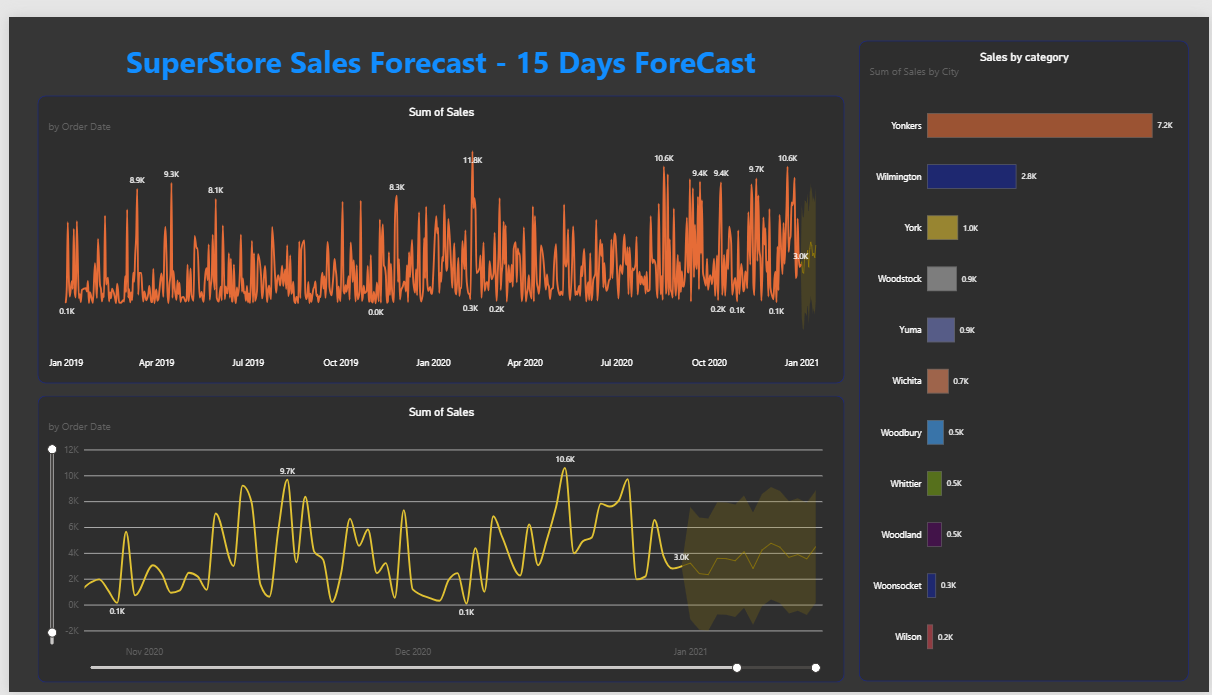

The dashboard page shown, as its layout file describes it:
{"tool":"powerbi","page":{"name":"Page 2","canvas":[1920,1080],"ordinal":1},"visuals":[{"type":"lineChart","fields":{"Category":["SuperStore_Sales_Dataset.Order Date"],"Y":["Sum(SuperStore_Sales_Dataset.Sales)"]},"box":[45,125,1290,460],"z":0},{"type":"lineChart","fields":{"Category":["SuperStore_Sales_Dataset.Order Date"],"Y":["Sum(SuperStore_Sales_Dataset.Sales)"]},"box":[45,605,1290,458],"z":1000},{"type":"clusteredBarChart","title":"Sales by category","fields":{"Category":["SuperStore_Sales_Dataset.City"],"Y":["Sum(SuperStore_Sales_Dataset.Sales)"]},"box":[1360,37.5,527.5,1025],"z":2000},{"type":"textbox","box":[45,37.5,1290,87.5],"z":3000}]}

Visuals, with their boxes in screenshot pixels (x1, y1, x2, y2), scaled from the page's 1920x1080 canvas onto the 1212x695 screenshot:
lineChart - SuperStore_Sales_Dataset.Order Date x Sum(SuperStore_Sales_Dataset.Sales): (28,80,843,376)
lineChart - SuperStore_Sales_Dataset.Order Date x Sum(SuperStore_Sales_Dataset.Sales): (28,389,843,684)
"Sales by category" clusteredBarChart: (858,24,1191,684)
textbox: (28,24,843,80)
